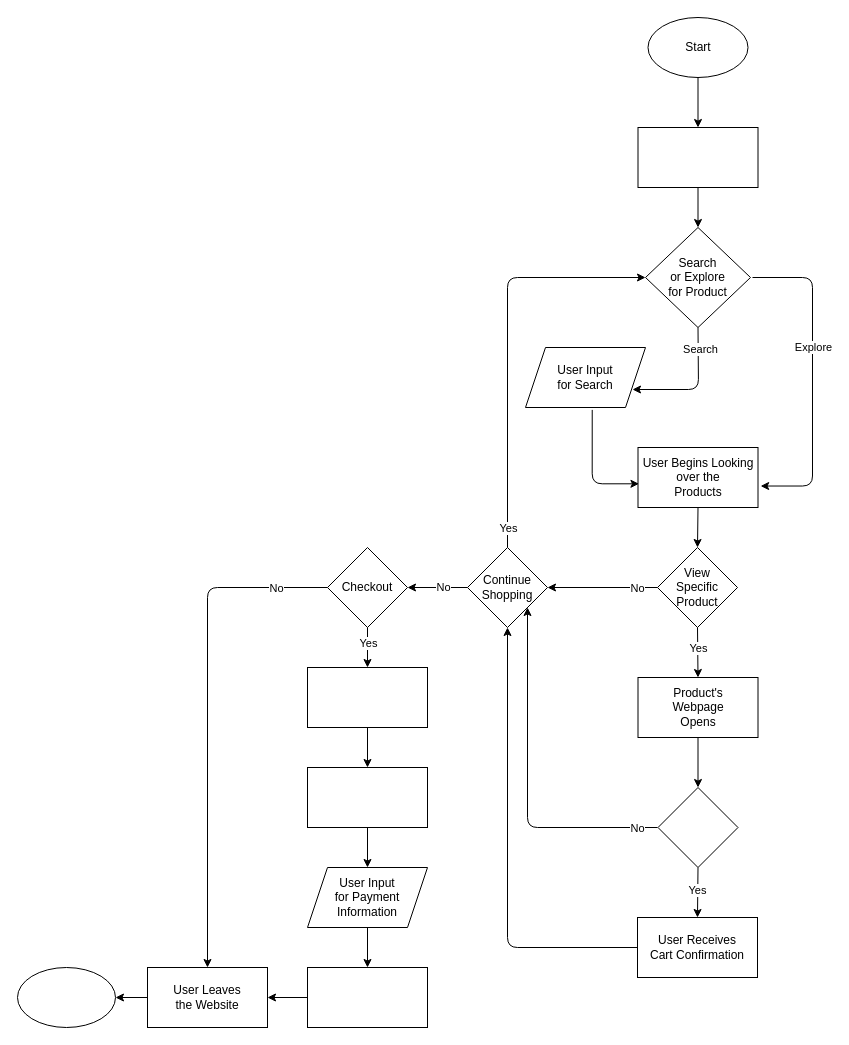
Some shapes in this 849 by 1045 pixel diagram are drawn without their labels. Each missing label, with the box of its shape:
Add Product to Cart: (657, 786, 738, 868)
End: (16, 966, 116, 1028)
User Enters the Website: (637, 126, 758, 188)
User sees order confirmation screen and receives email: (306, 966, 428, 1028)
User Views Cart: (306, 666, 428, 728)
User Views Payment: (306, 766, 428, 828)
